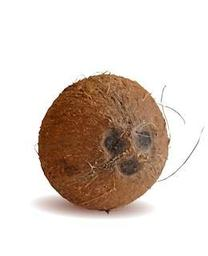coconut: (36, 74, 170, 211)
